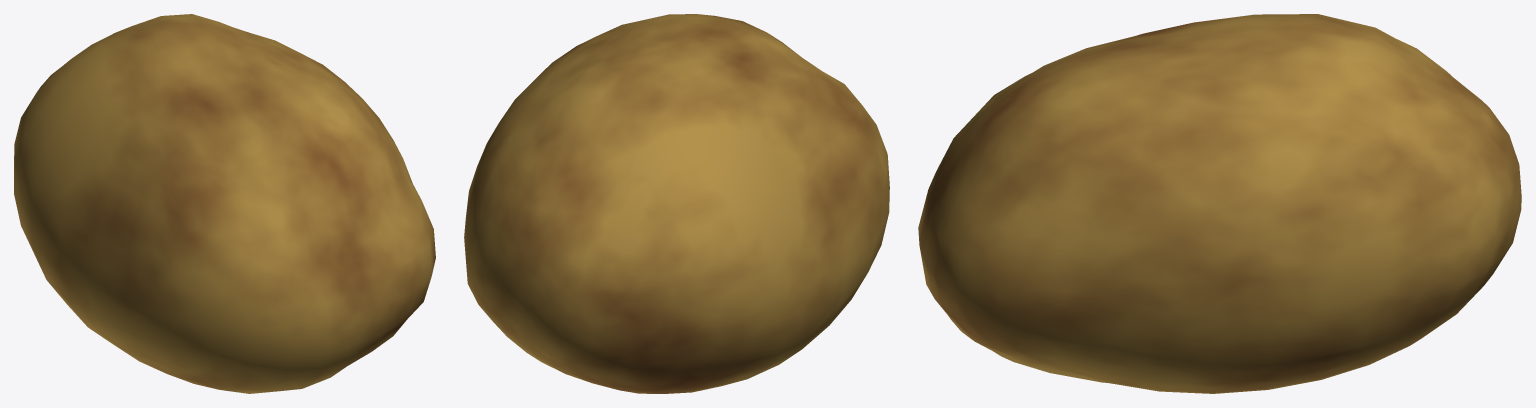
File: potato.fbx
3 renders of one model, left to right at view 1: azimuth 30°, elevation 25°; view 2: azimuth 150°, elevation 25°; view 3: azimuth 270°, elevation 25°, orthographic. The views are drawn at different scales.
Parts seen in each view (by area): view 1: Potato; view 2: Potato; view 3: Potato.
Part boxes in pixels (<box>): Potato: <box>14,14,435,393</box>; Potato: <box>464,14,889,393</box>; Potato: <box>918,14,1521,393</box>.
Size of the model in its own units: 14.54 by 13.83 by 21.25.
